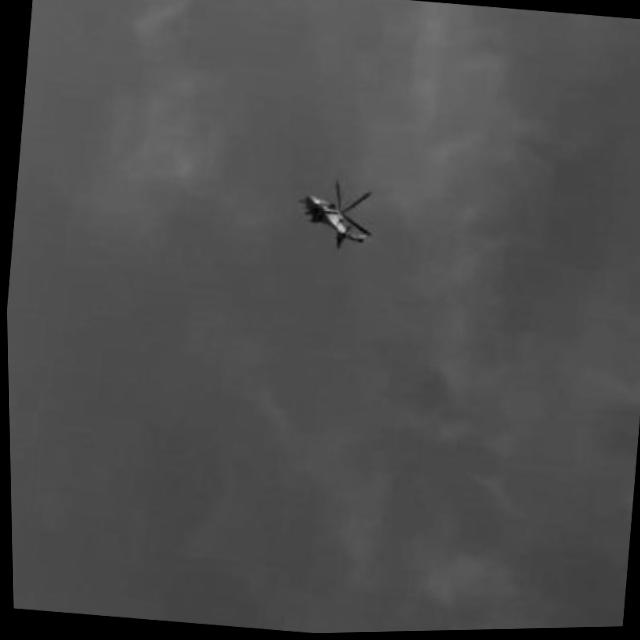helikopter: (299, 181, 374, 252)
